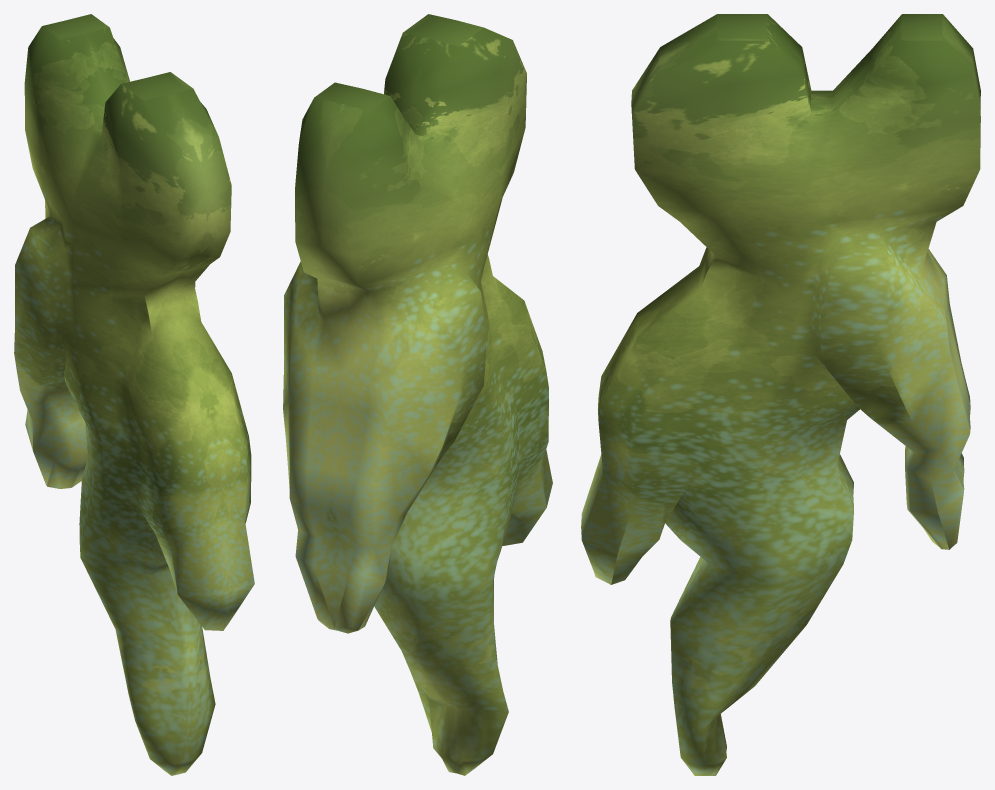
The model's file is ronck_4.fbx.
3 renders of one model, left to right at view 1: azimuth 30°, elevation 25°; view 2: azimuth 150°, elevation 25°; view 3: azimuth 270°, elevation 25°, orthographic. The views are drawn at different scales.
Visible parts, largest first — view 1: Plane.002; view 2: Plane.002; view 3: Plane.002.
Boxes of the visible parts, x1,y1,x2,y2 form: Plane.002: (14,14,254,775); Plane.002: (283,14,552,775); Plane.002: (581,14,980,775).
Bounding box in the file's own units: 49.78 × 208 × 101.
1 material, 1 textured.
